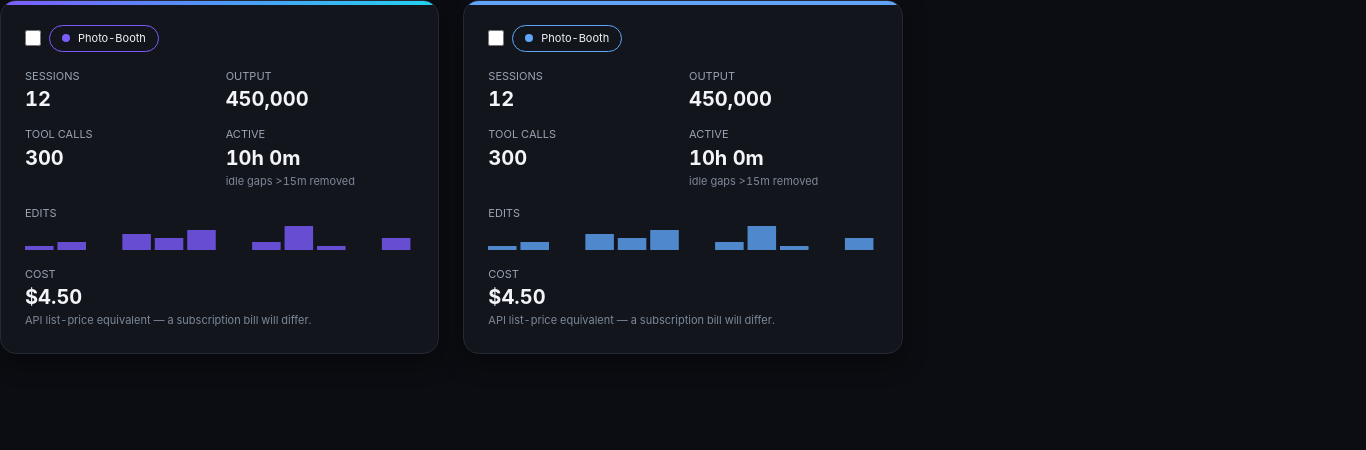
Scenario: §6.8 Projects & Code — saying two projects are the same (ADR-040) › offers nothing until the user has ticked two cards themselves
Check: the text "same project" is not shown
Click the checkbox with test id "project-card-tick-1" at (33, 38), box [25,30,41,46]
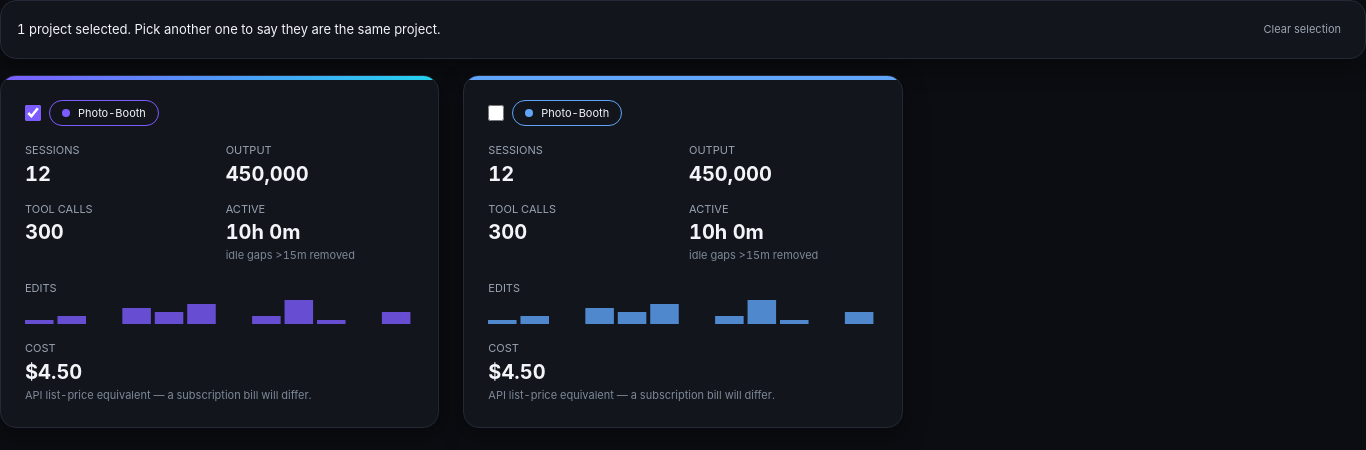
Check: the element with test id "same-project-bar" is shown, box [0,0,1365,58]
Click the checkbox with test id "project-card-tick-2" at (496, 113), box [488,105,504,121]
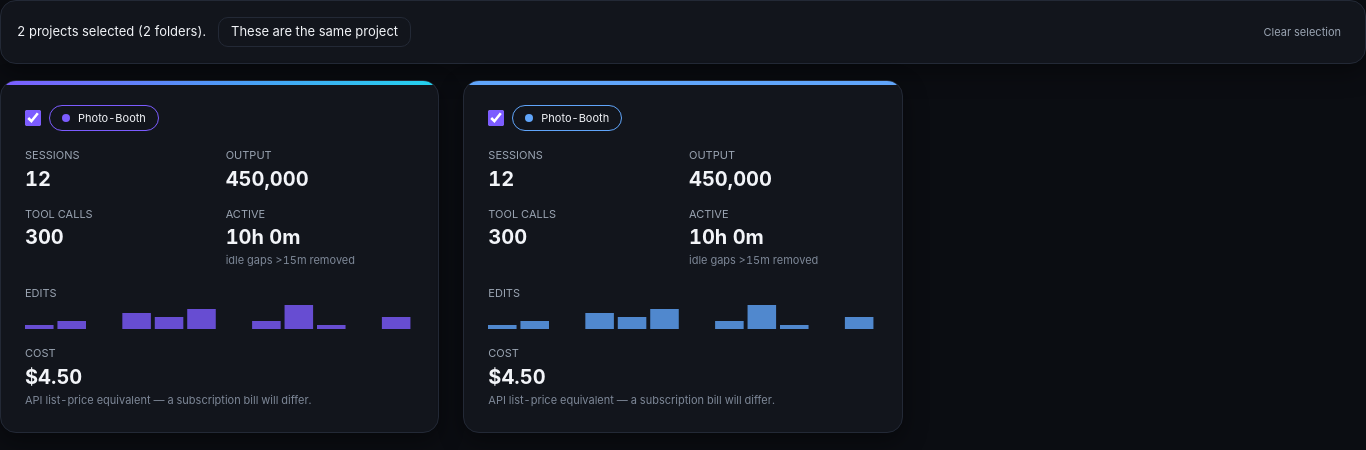
Check: the button with test id "same-project-start" reads "These are the same project", box [218,17,411,46]
